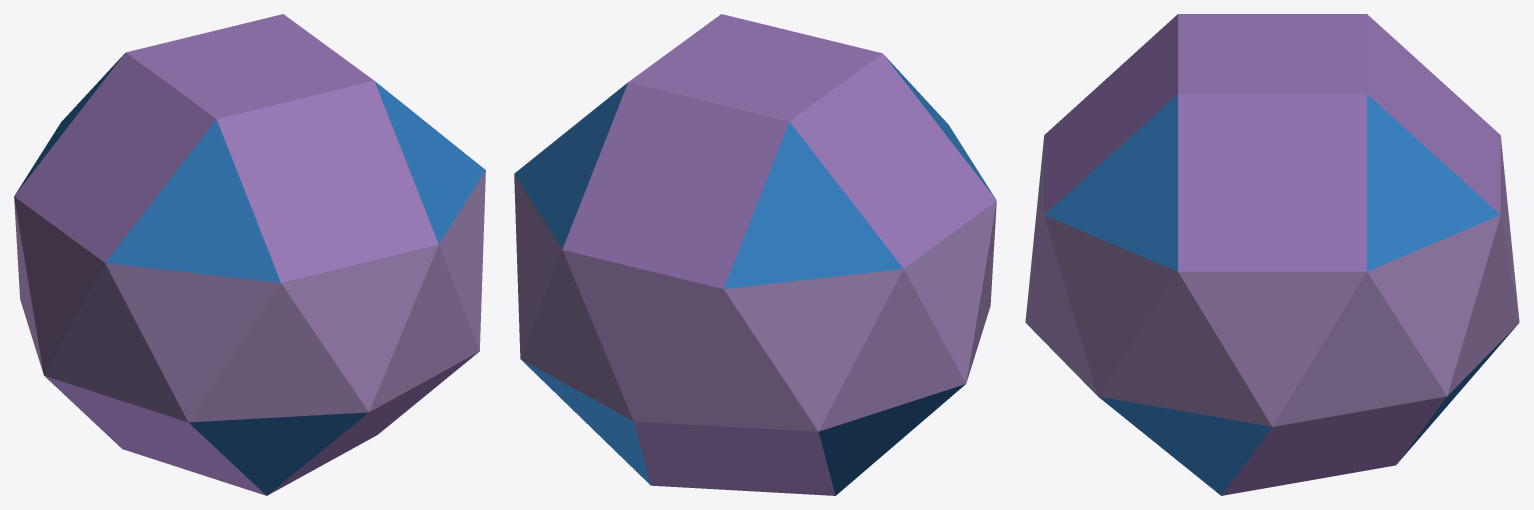
Rendered from J45.BicupulaCuadradaGiroelongada.gltf.
3 renders of one model, left to right at view 1: azimuth 30°, elevation 25°; view 2: azimuth 150°, elevation 25°; view 3: azimuth 270°, elevation 25°, orthographic. The views are drawn at different scales.
Parts seen in each view (by area): view 1: J45.BicupulaCuadradaGiroelongada; view 2: J45.BicupulaCuadradaGiroelongada; view 3: J45.BicupulaCuadradaGiroelongada.
Part boxes in pixels (<box>): J45.BicupulaCuadradaGiroelongada: <box>14,14,485,495</box>; J45.BicupulaCuadradaGiroelongada: <box>514,14,996,495</box>; J45.BicupulaCuadradaGiroelongada: <box>1025,14,1519,495</box>.
Size of the model in its own units: 19 by 16.54 by 19.
